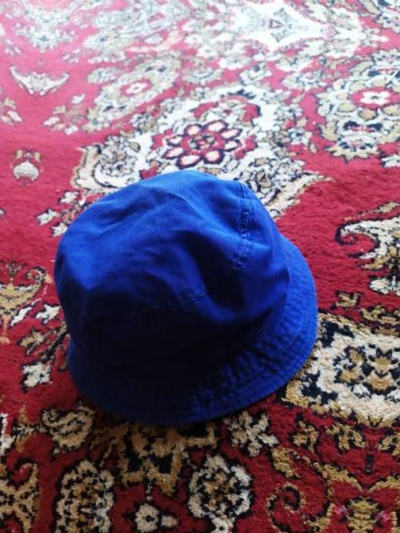Hat: (43, 107, 342, 445)
